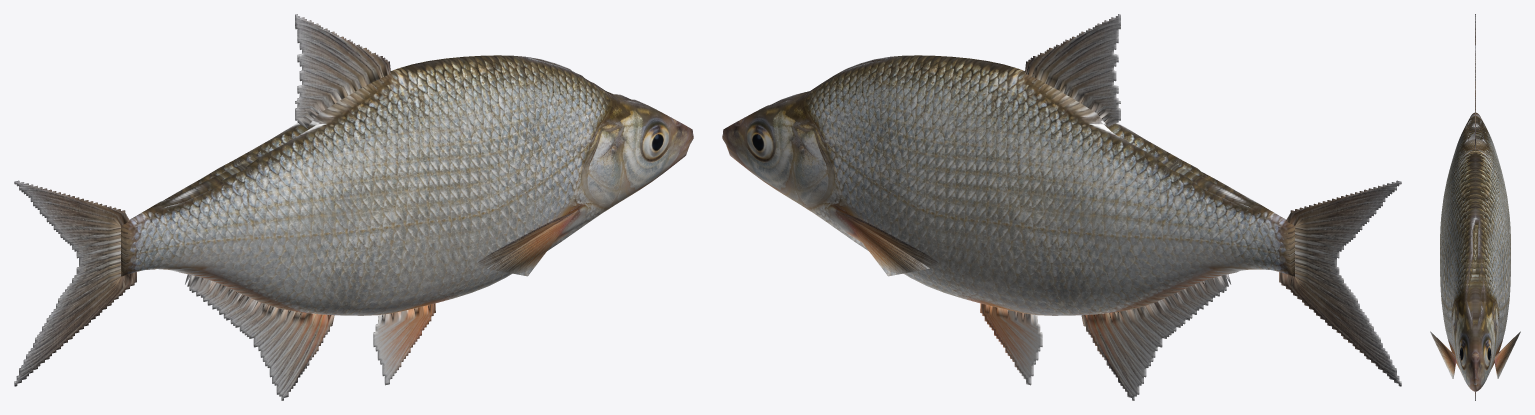
Rendered from silver_bream.glb.
The picture shows the model from 3 angles, left to right: view 1: azimuth 30°, elevation 25°; view 2: azimuth 150°, elevation 25°; view 3: azimuth 270°, elevation 25°; orthographic projection. The views are drawn at different scales.
Parts seen in each view (by area): view 1: silver_bream_realistic; view 2: silver_bream_realistic; view 3: silver_bream_realistic.
Part boxes in pixels (x1,y1,x2,y2): silver_bream_realistic: (14, 14, 693, 400); silver_bream_realistic: (722, 14, 1401, 400); silver_bream_realistic: (1430, 14, 1520, 400).
Bounding box in the file's own units: 1 × 0.5525 × 0.1428.
3 materials, 3 textured.
